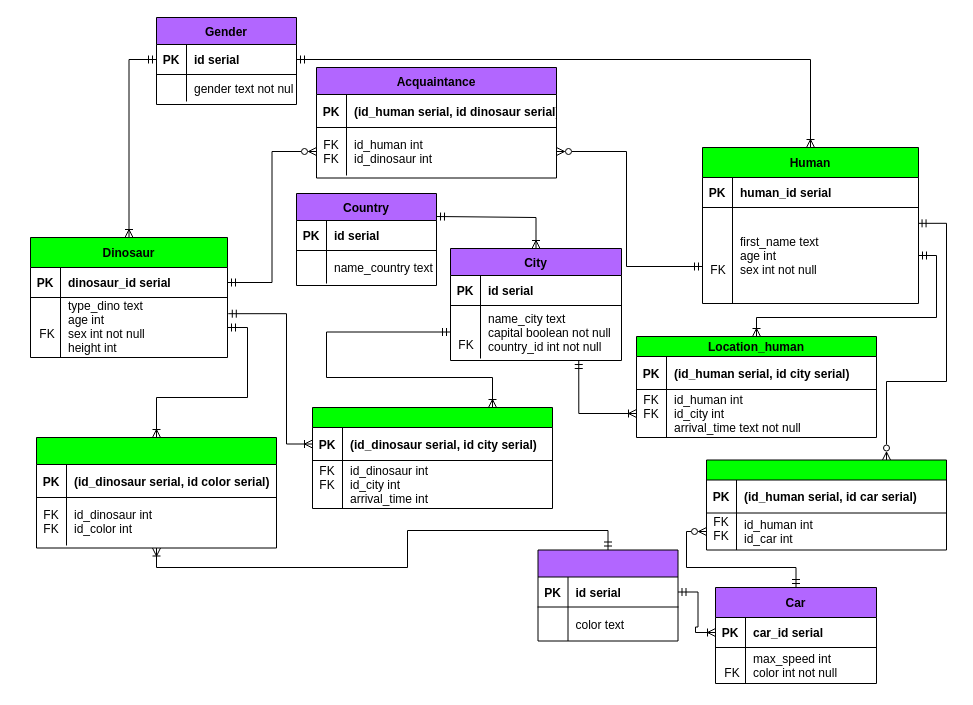
This 973x705 diagram has some shape labels left out. The box of each missing label's shape, as (x1, y1, x2, y2) in pixels:
Car_human: (706, 459, 946, 550)
Coloring: (537, 549, 678, 641)
Coloring_dinosaur: (36, 436, 276, 548)
Location_dinosaur: (312, 406, 552, 508)
